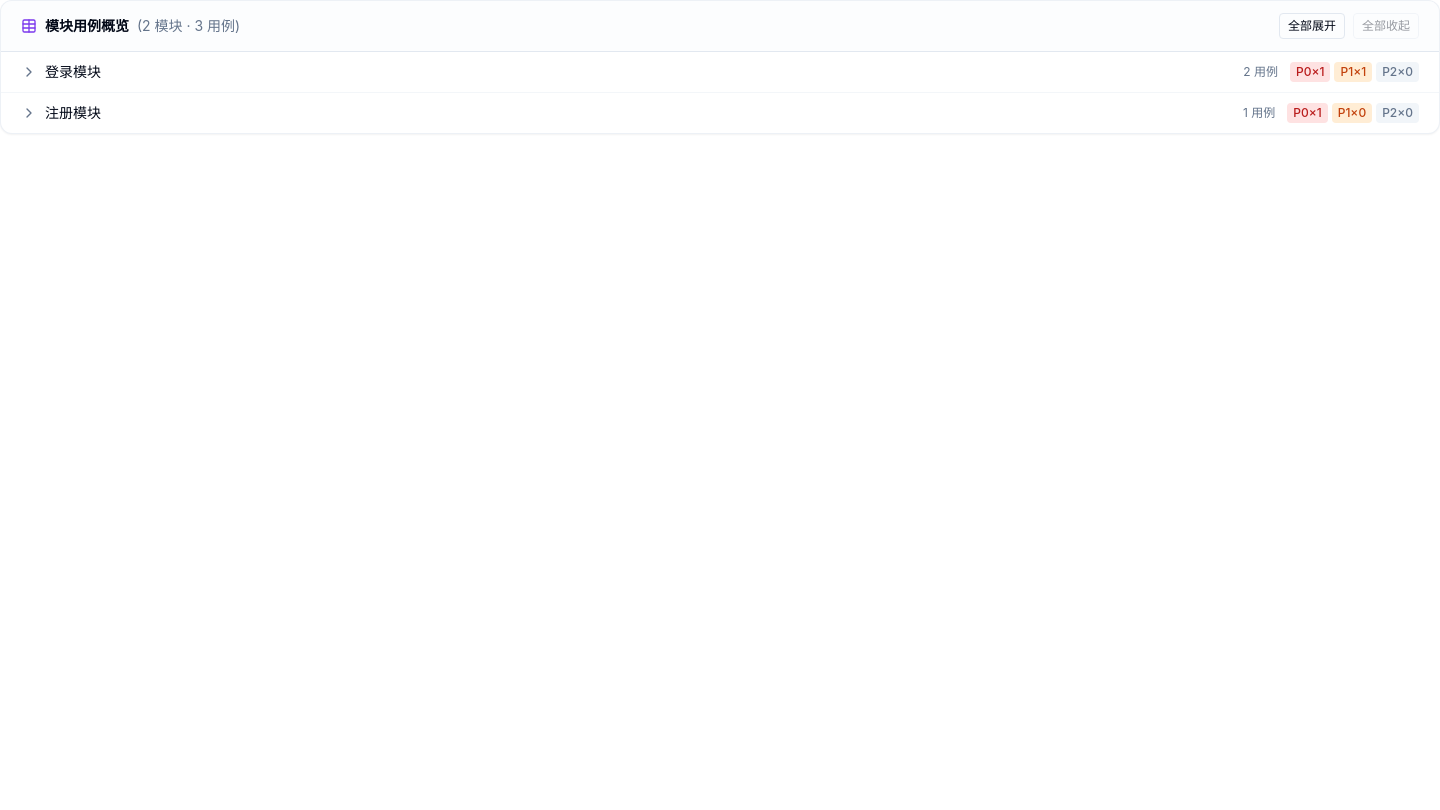
ModuleOverviewTable › collapses all modules on 全部收起 click
Click the button "全部展开" at (1312, 26), box [1279, 13, 1345, 39]
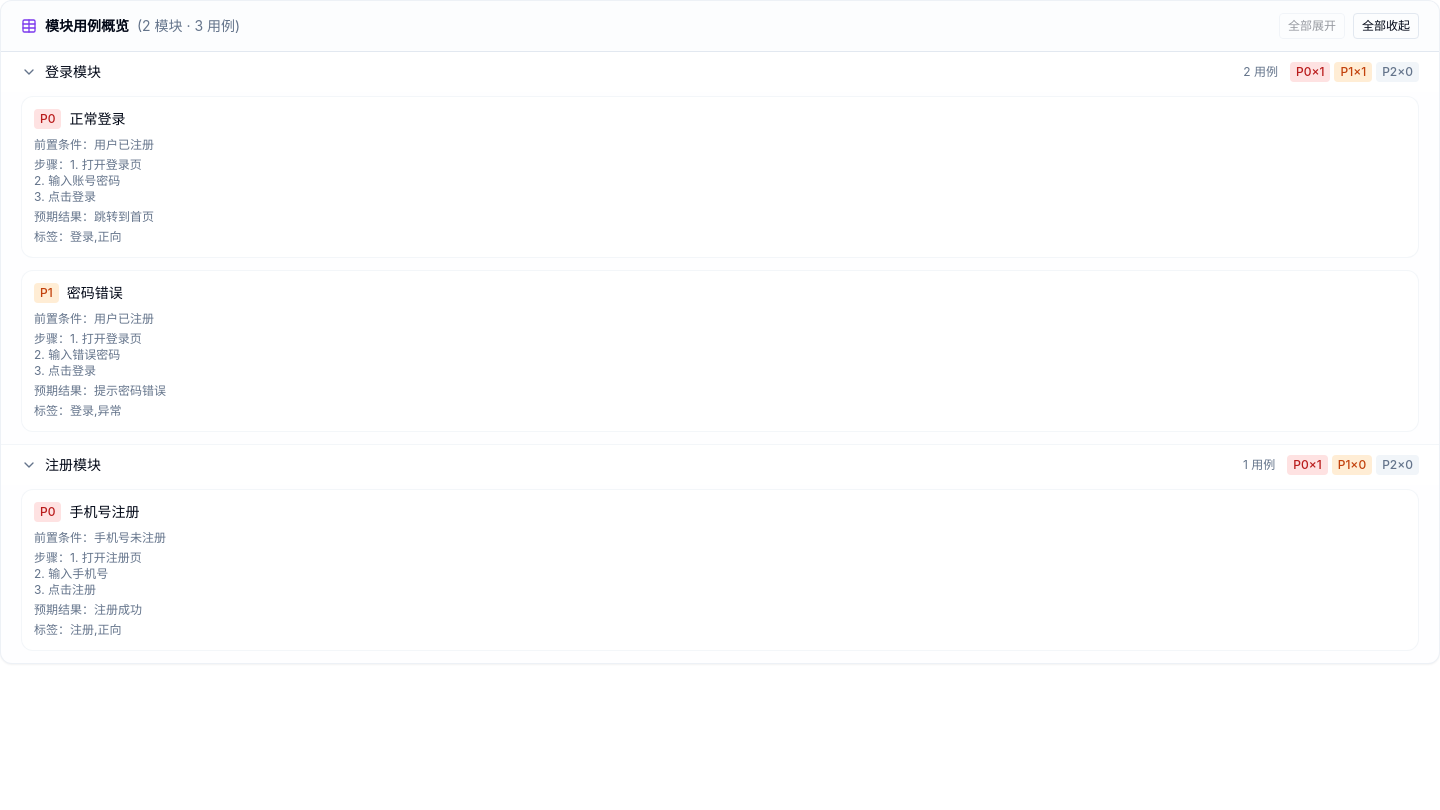
Check: the text "正常登录" is shown, box [70, 109, 126, 129]
Click the button "全部收起" at (1386, 26), box [1353, 13, 1419, 39]
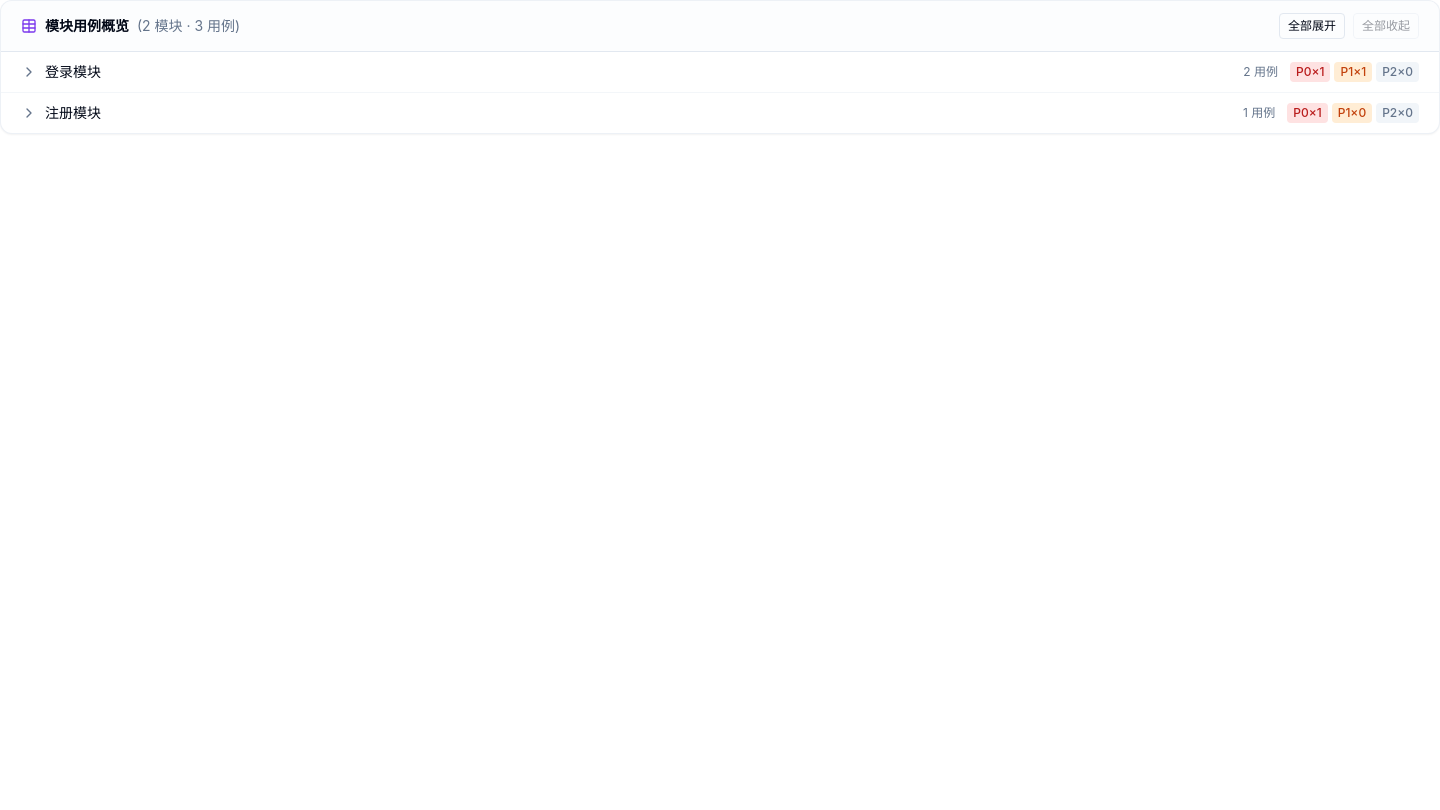
Check: the text "正常登录" is gone
